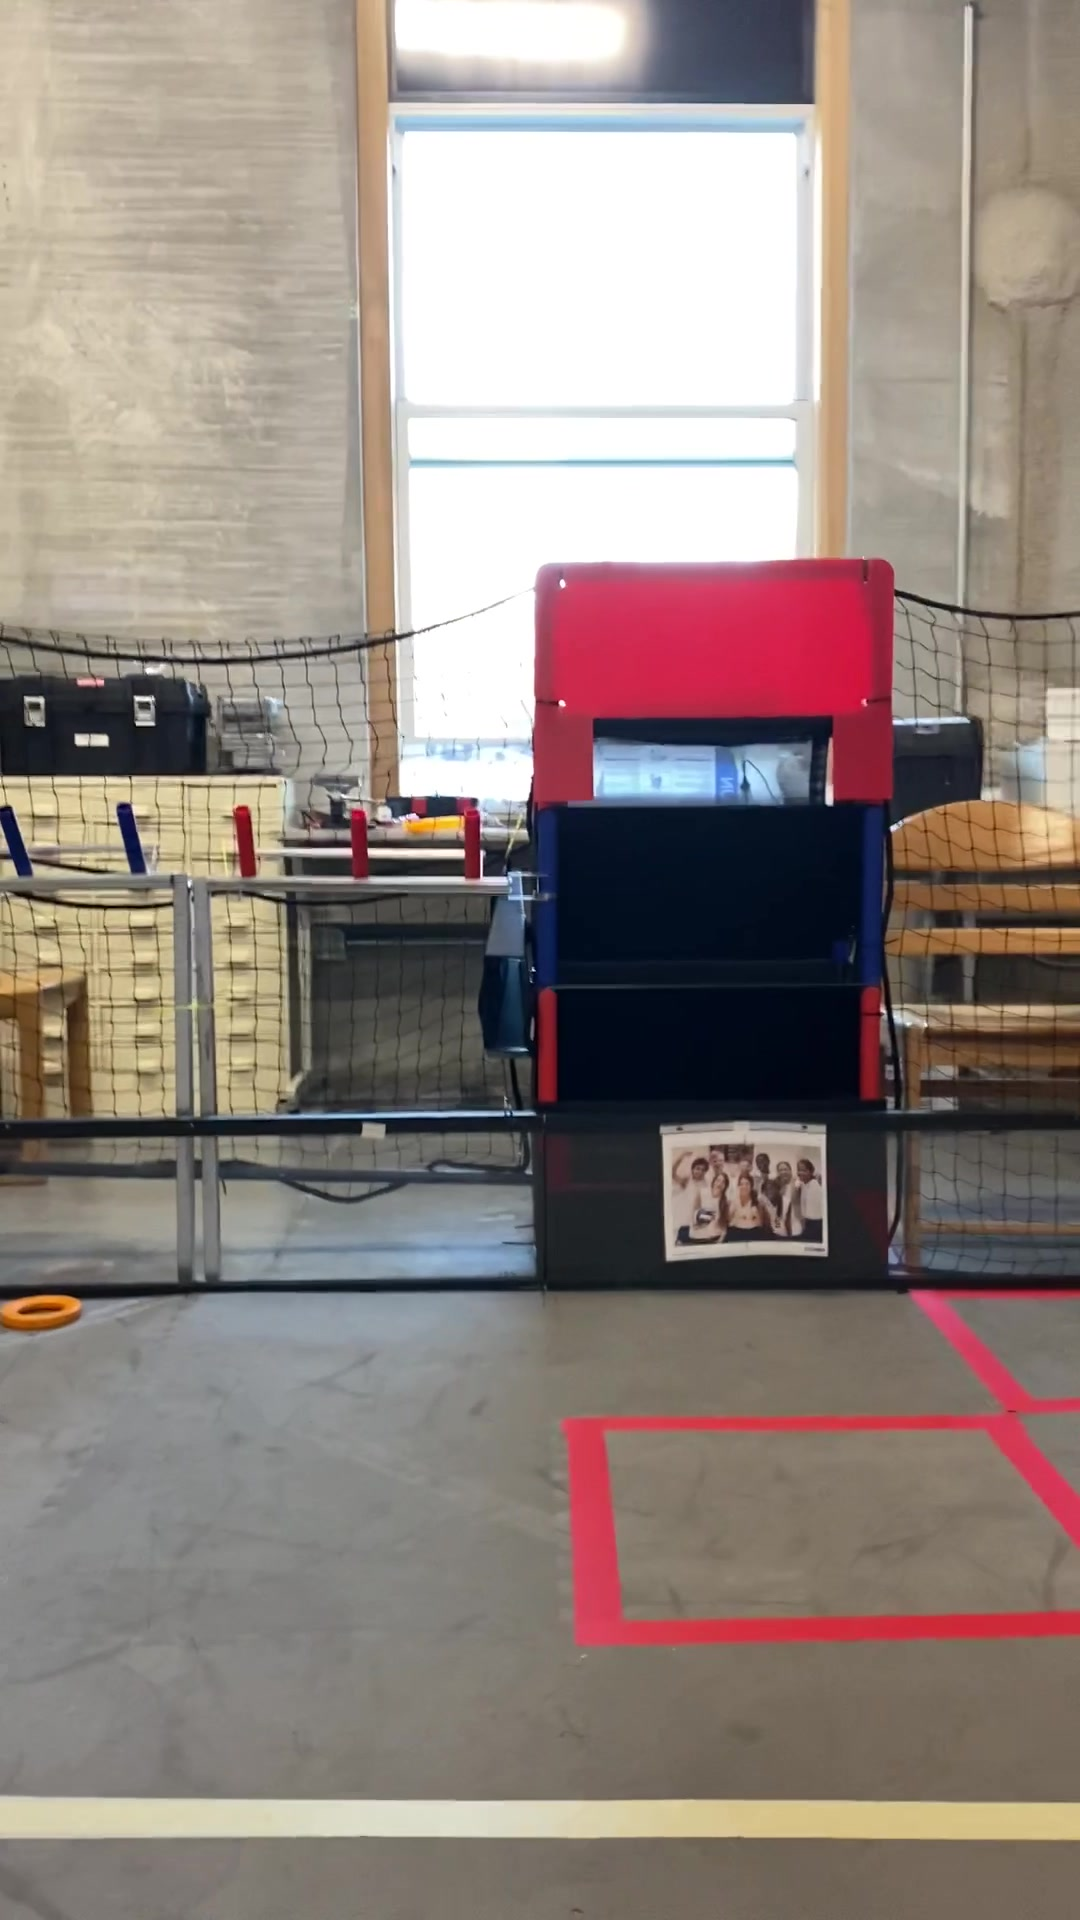high_goal: (589, 724, 835, 804)
